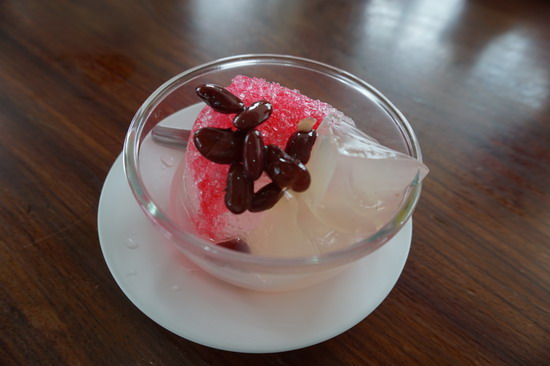O-eo: (131, 56, 432, 275)
